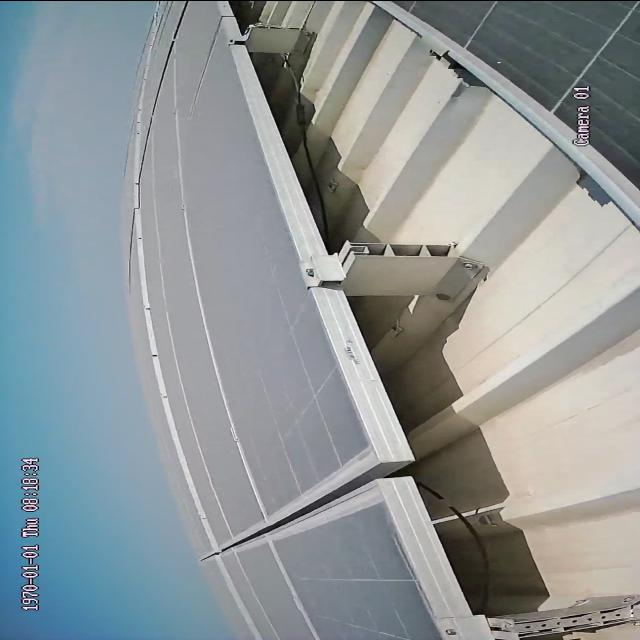interior panel: (219, 448, 377, 556)
outher panel: (223, 1, 640, 640)
